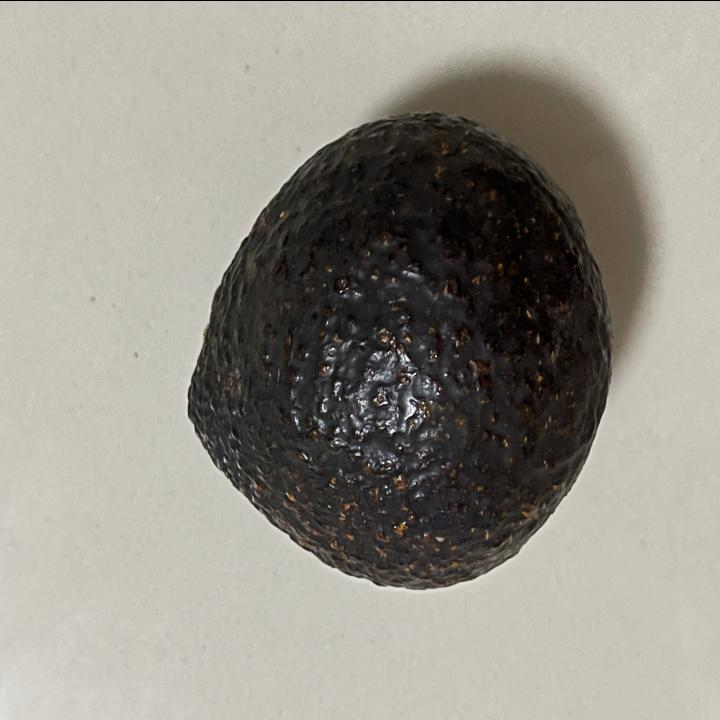Level3: (178, 100, 618, 604)
